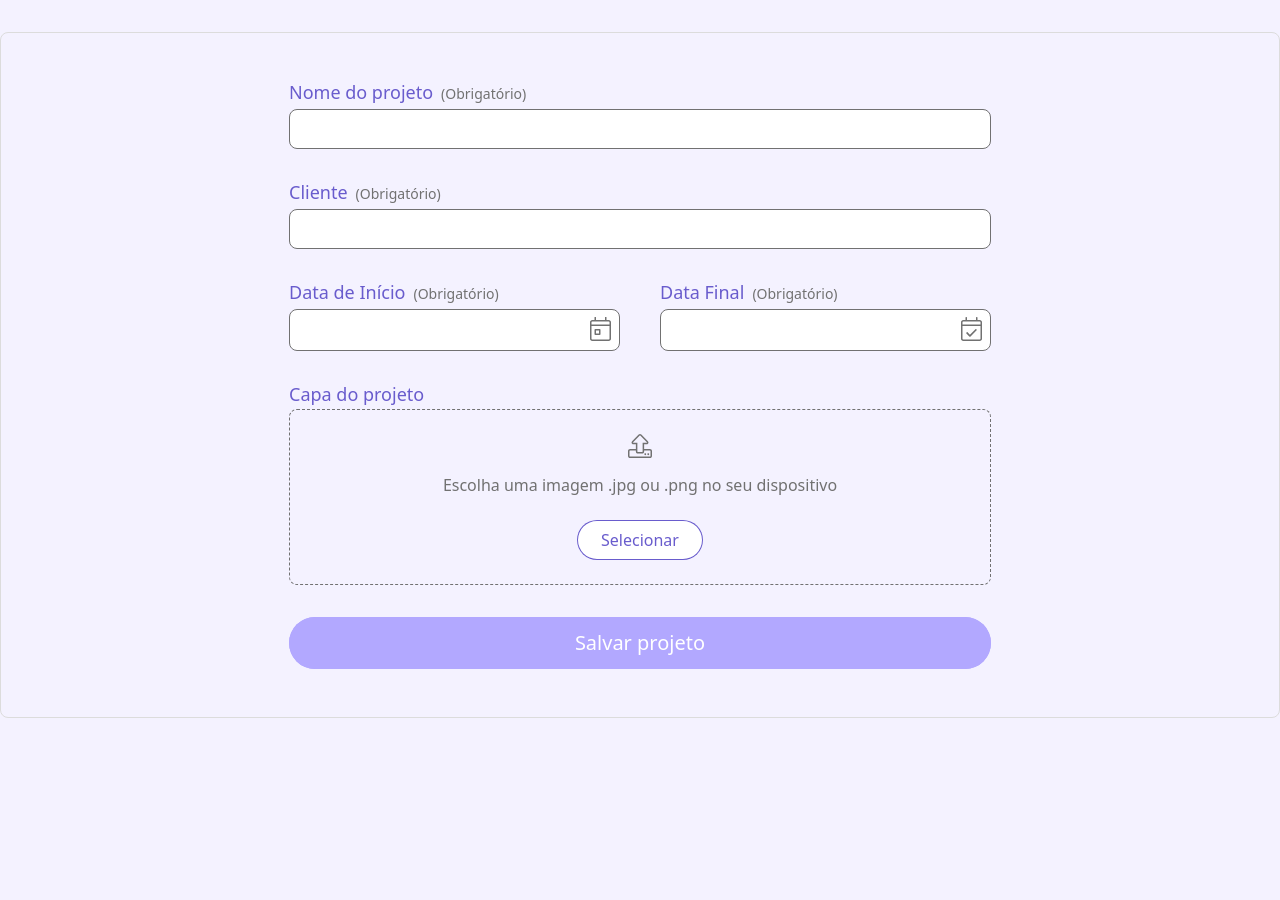
Test: ProjectForm - validation › disables the submit button again when a field becomes invalid
This screenshot has width=1280, height=900.
Type "Loja Virtual" into the field named "name" at (640, 129), box left=289, top=109, right=991, bottom=149
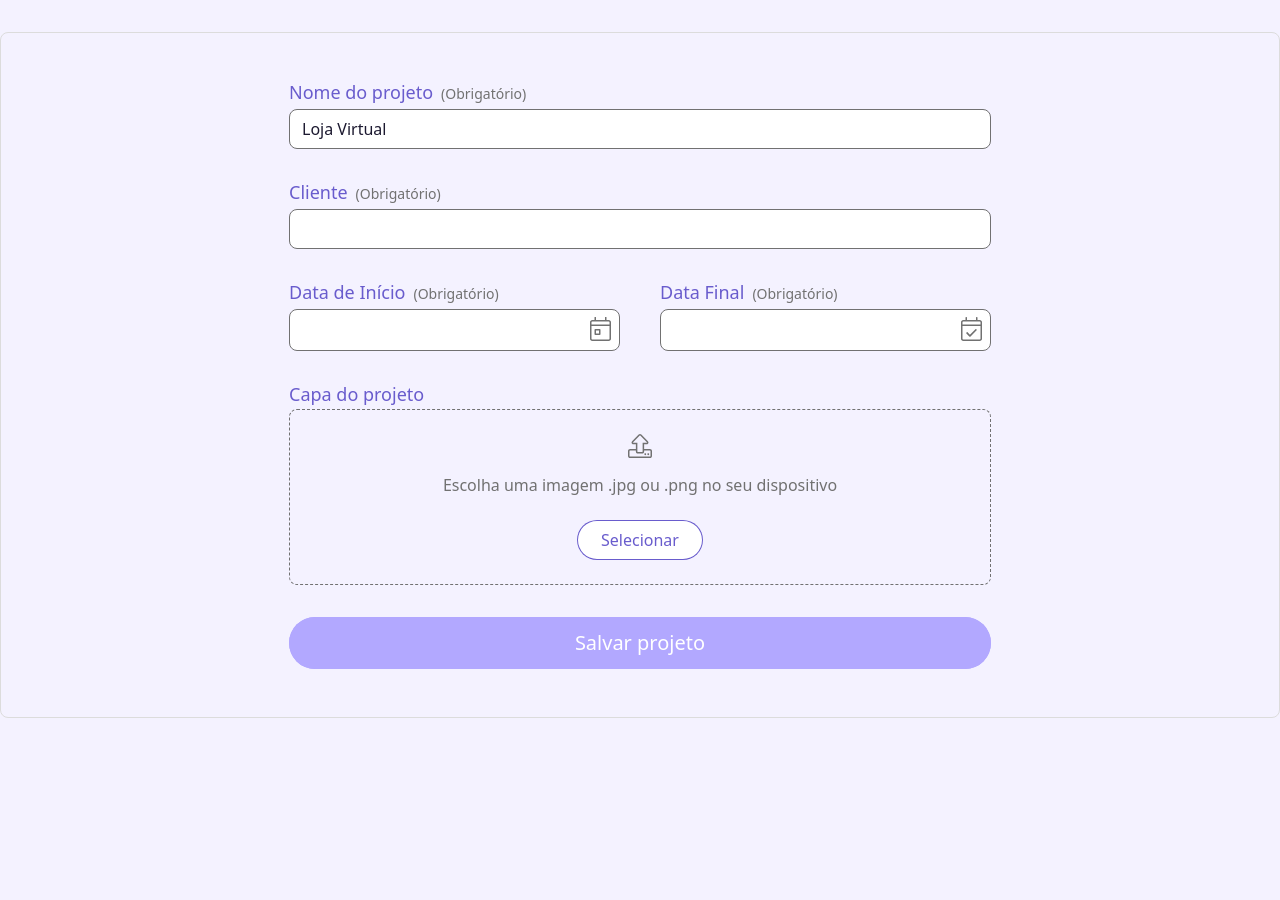
Type "Clicksign" into the field named "client" at (640, 229), box left=289, top=209, right=991, bottom=249
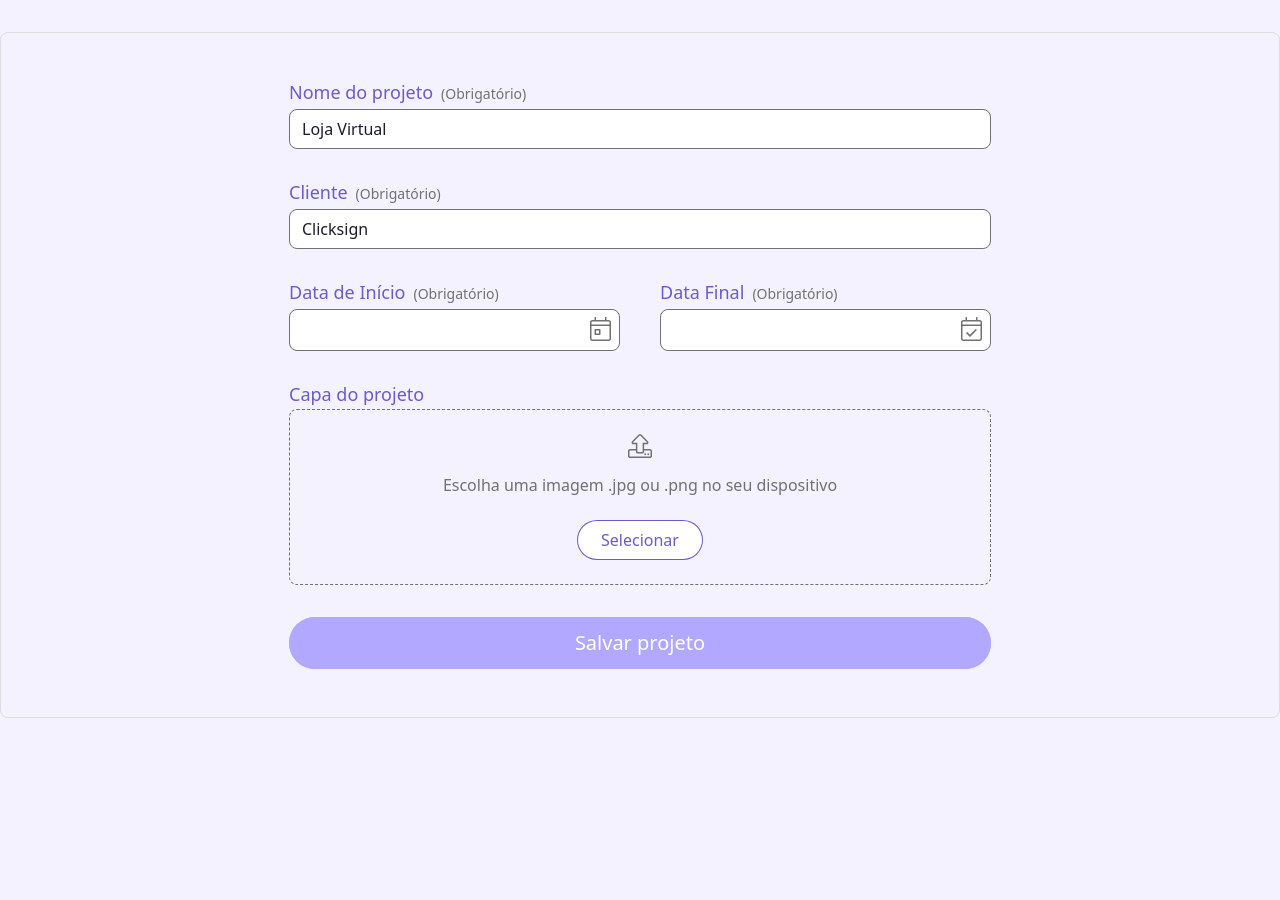
Type "2026-09-01" into the date field named "started_at" at (454, 330), box left=289, top=309, right=620, bottom=351
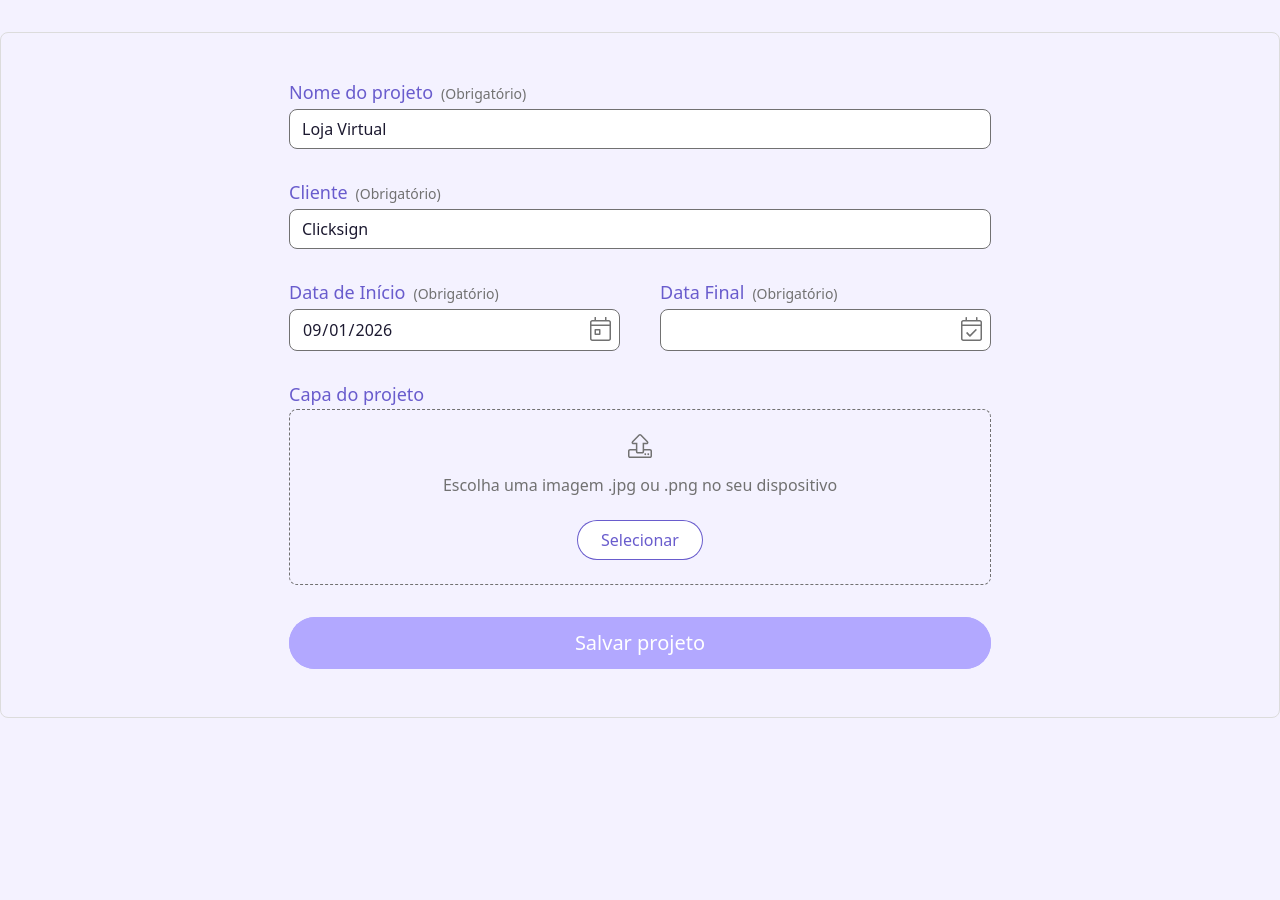
Type "2026-12-15" into the date field named "end_at" at (826, 330), box left=660, top=309, right=991, bottom=351
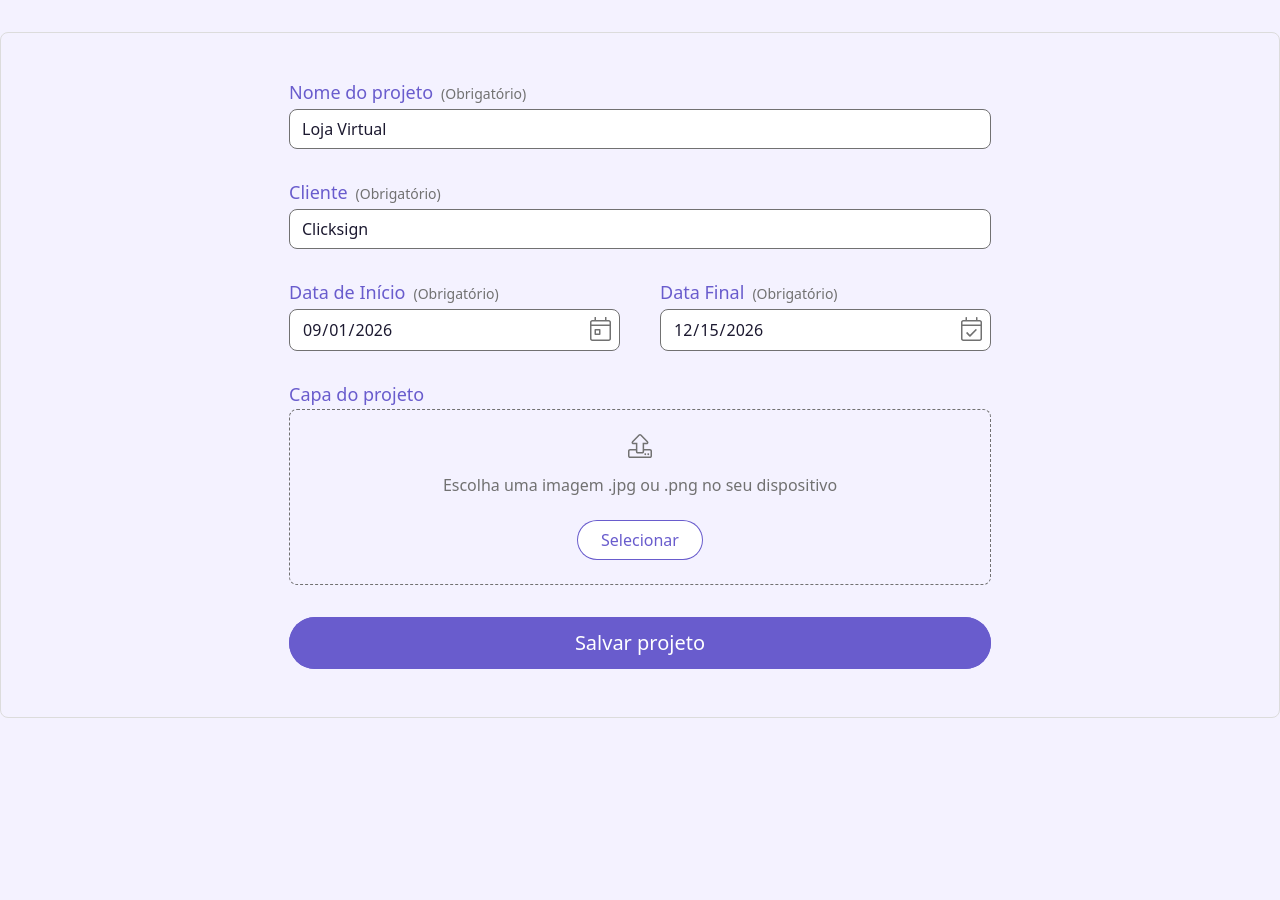
Check: the button "Salvar projeto" is enabled, box left=289, top=617, right=991, bottom=669
Clear the field named "name" at (640, 129), box left=289, top=109, right=991, bottom=149
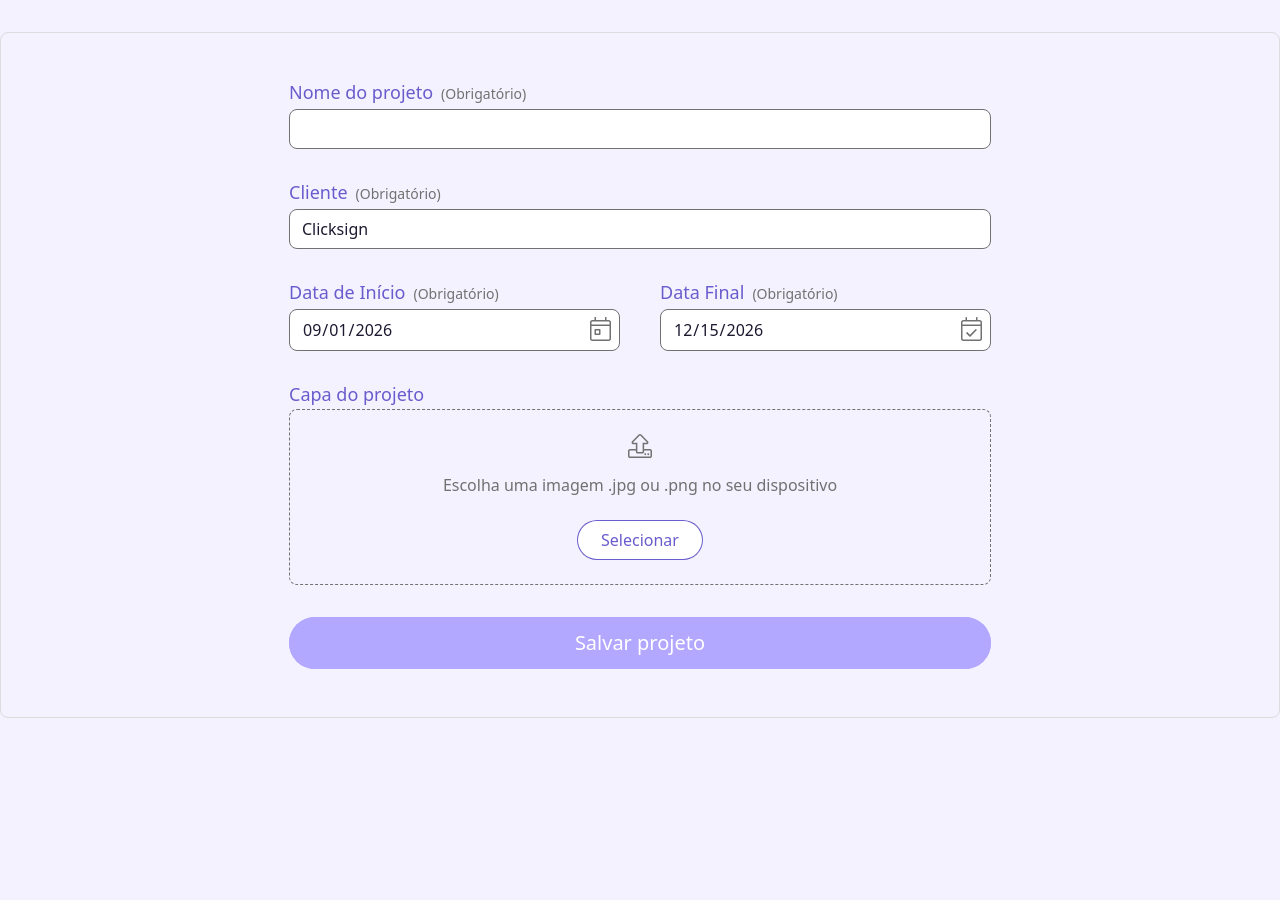
Check: the button "Salvar projeto" is disabled, box left=289, top=617, right=991, bottom=669
